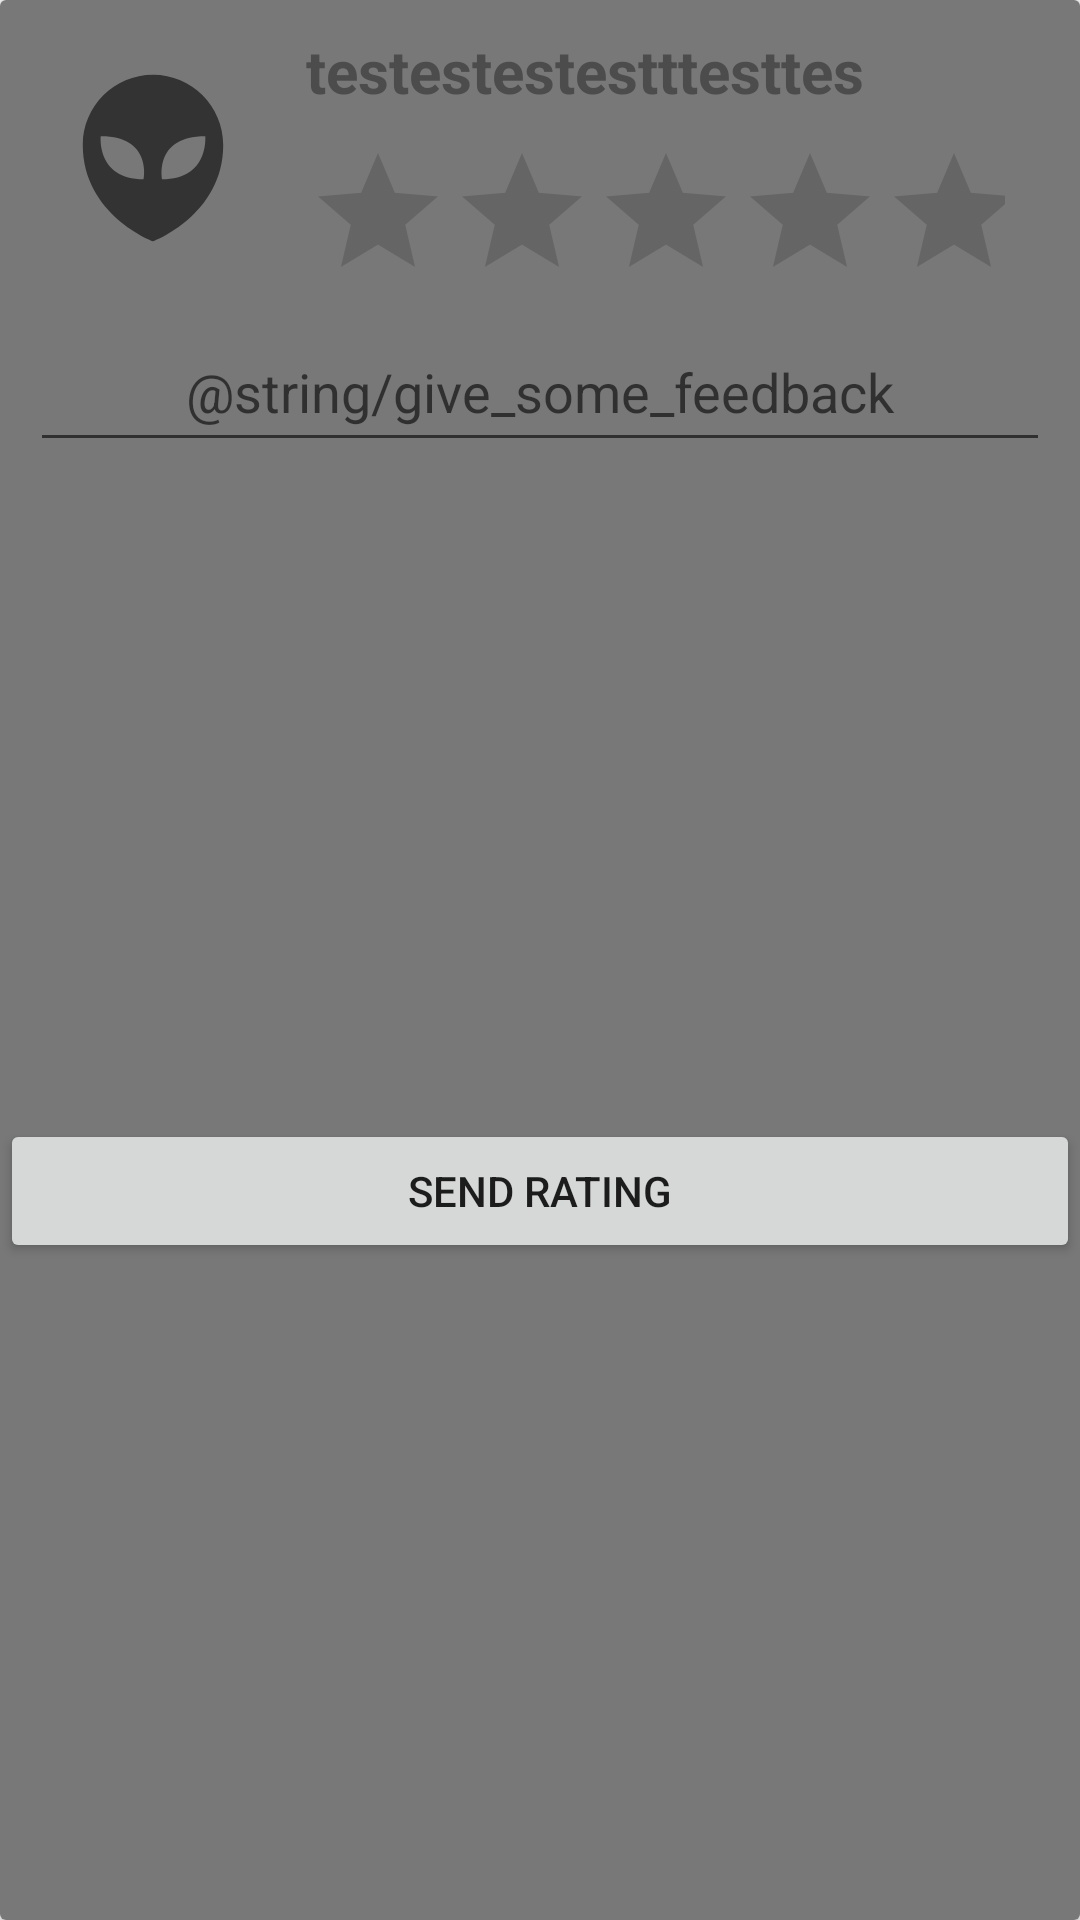

Icon bounding boxes for this 1080px×1920px phone screenshot, format [x1,y1,x2,y2]:
alien head: [83,75,223,241]
